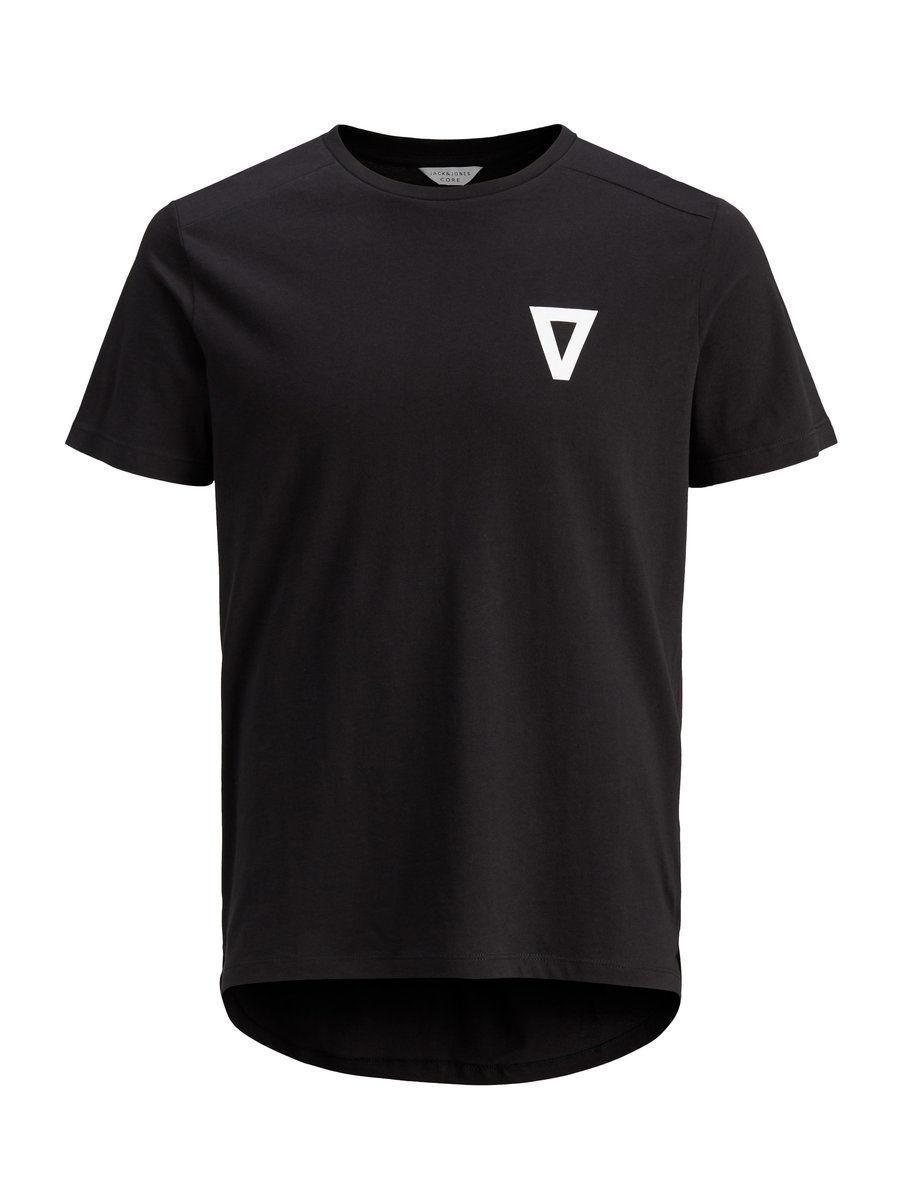teeshirt: (40, 107, 860, 1082)
